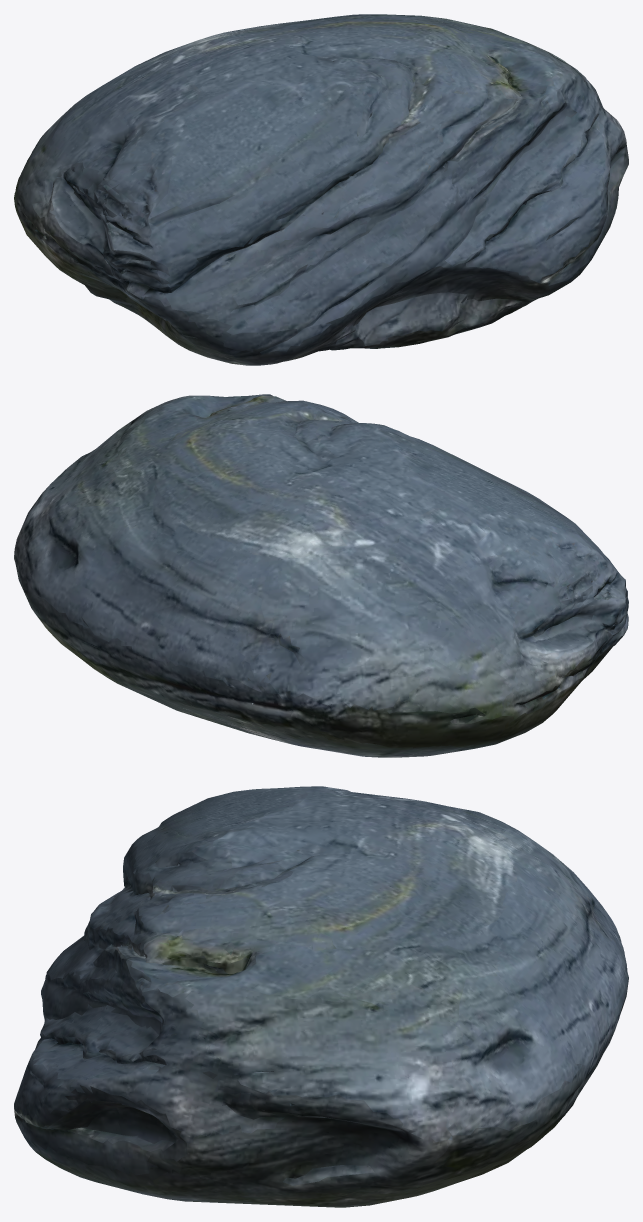
The model's file is stream-slate-v3-lod.glb.
The picture shows the model from 3 angles, top to bottom: view 1: azimuth 30°, elevation 25°; view 2: azimuth 150°, elevation 25°; view 3: azimuth 270°, elevation 25°; orthographic projection. The views are drawn at different scales.
Visible parts, largest first — view 1: geometry_0; view 2: geometry_0; view 3: geometry_0.
Part boxes in pixels (x1,y1,x2,y2): geometry_0: (14, 14, 628, 365); geometry_0: (14, 394, 628, 757); geometry_0: (14, 786, 628, 1207).
Bounding box in the file's own units: 0.3199 × 0.1398 × 0.2678.
1 material, 1 textured.
